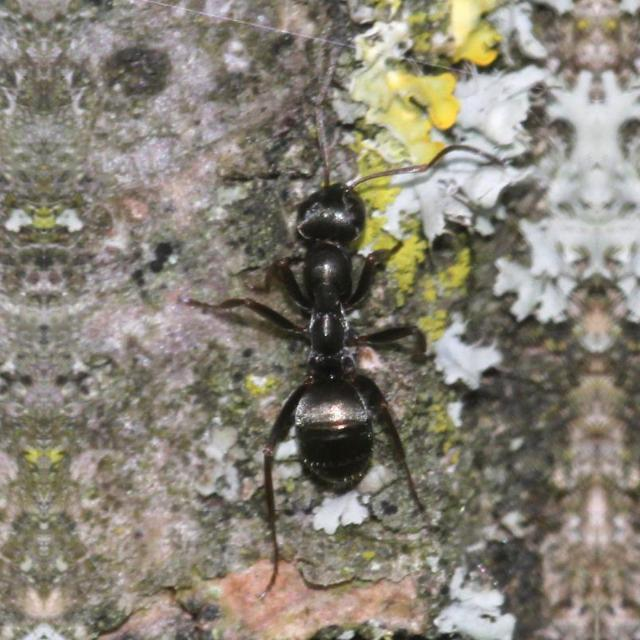Formica: (195, 134, 470, 522)
